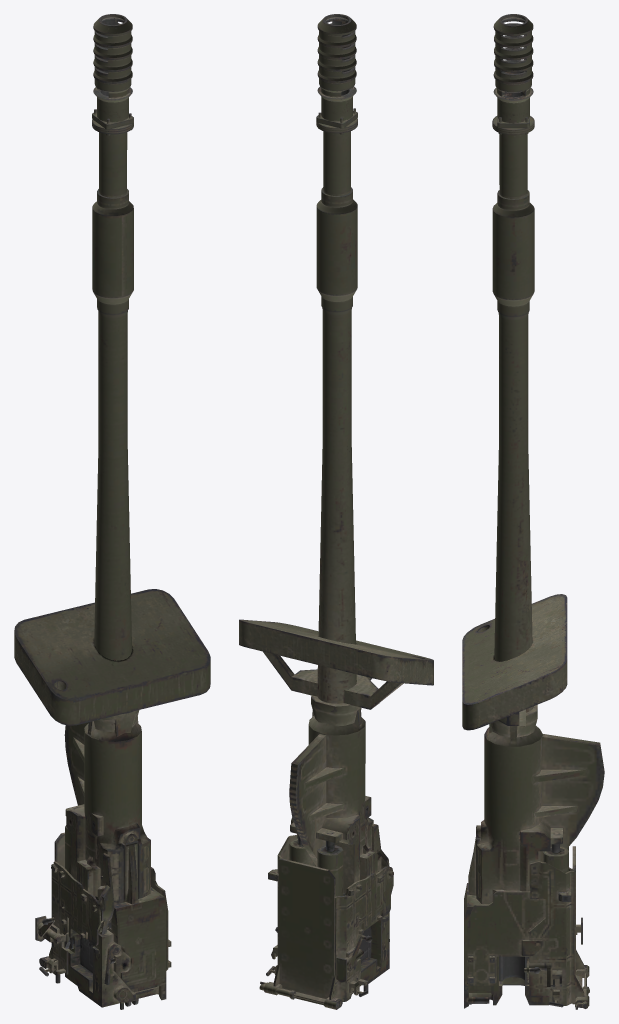
The model's file is Gun_02.glb.
The picture shows the model from 3 angles, left to right: view 1: azimuth 30°, elevation 25°; view 2: azimuth 150°, elevation 25°; view 3: azimuth 270°, elevation 25°; orthographic projection.
Parts seen in each view (by area): view 1: set_0_group_0; view 2: set_0_group_0; view 3: set_0_group_0.
Boxes of the visible parts, x1,y1,x2,y2 form: set_0_group_0: (14, 14, 210, 1009); set_0_group_0: (239, 14, 433, 1009); set_0_group_0: (462, 14, 604, 1009).
Size of the model in its own units: 1.07 by 6.29 by 0.8278.
1 material, 1 textured.
